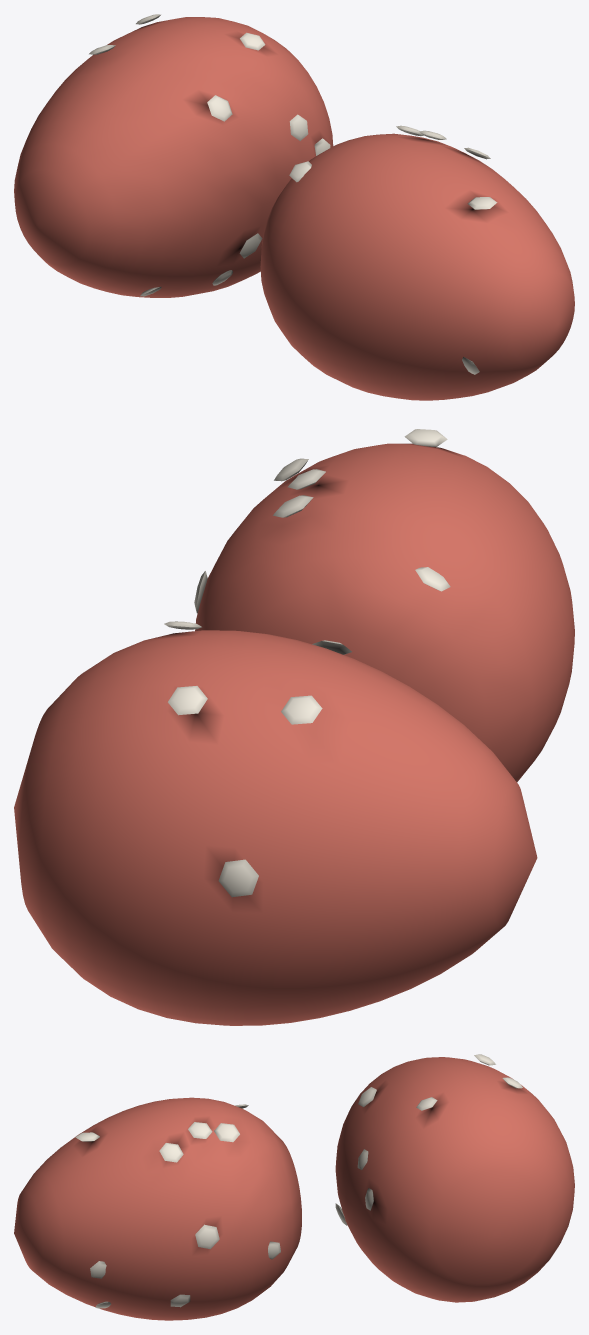
Rendered from food_wildegg.glb.
The picture shows the model from 3 angles, top to bottom: view 1: azimuth 30°, elevation 25°; view 2: azimuth 150°, elevation 25°; view 3: azimuth 270°, elevation 25°; orthographic projection. The views are drawn at different scales.
Visible parts, largest first — view 1: PART; view 2: PART; view 3: PART.
Boxes of the visible parts, box(x1,y1,x2,y2) form: PART: box(14, 14, 574, 400); PART: box(14, 429, 574, 1025); PART: box(14, 1054, 574, 1320).
Size of the model in its own units: 0.0547 by 0.0368 by 0.0886.
